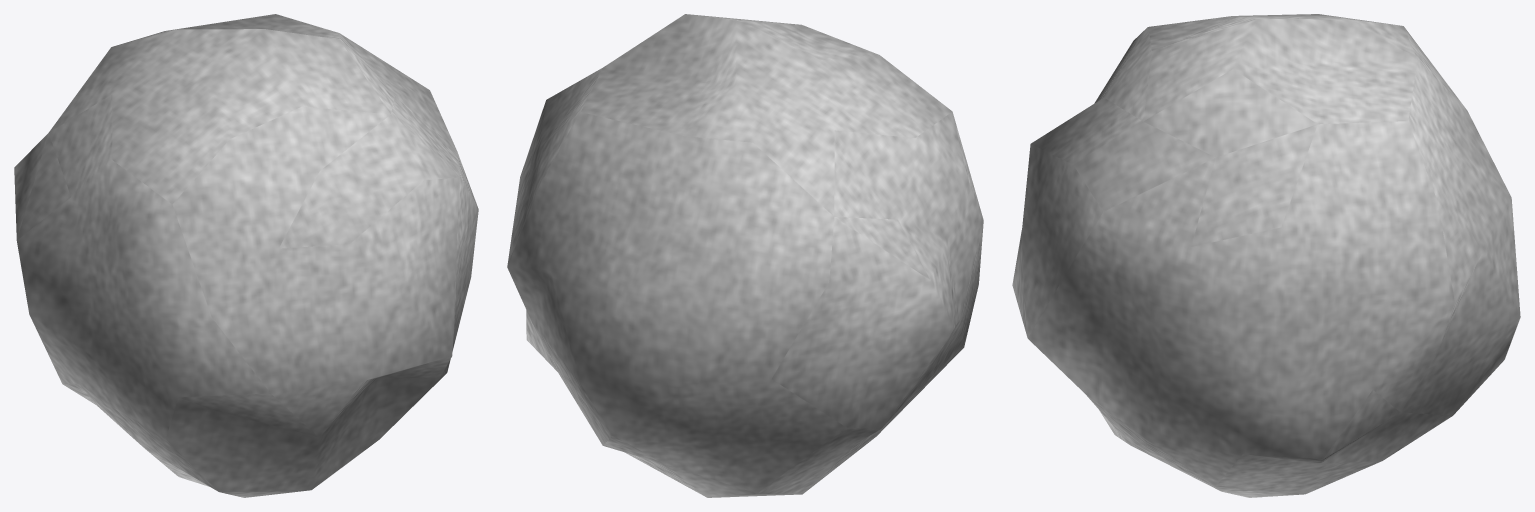
File: LargeAsteroid.fbx
The picture shows the model from 3 angles, left to right: view 1: azimuth 30°, elevation 25°; view 2: azimuth 150°, elevation 25°; view 3: azimuth 270°, elevation 25°; orthographic projection. The views are drawn at different scales.
Parts seen in each view (by area): view 1: F3:GeoDome1; view 2: F3:GeoDome1; view 3: F3:GeoDome1.
Boxes of the visible parts, <box> form: F3:GeoDome1: <box>14,14,478,497</box>; F3:GeoDome1: <box>507,14,983,497</box>; F3:GeoDome1: <box>1012,14,1520,497</box>.
Size of the model in its own units: 113 by 119 by 114.
1 material, 1 textured.
